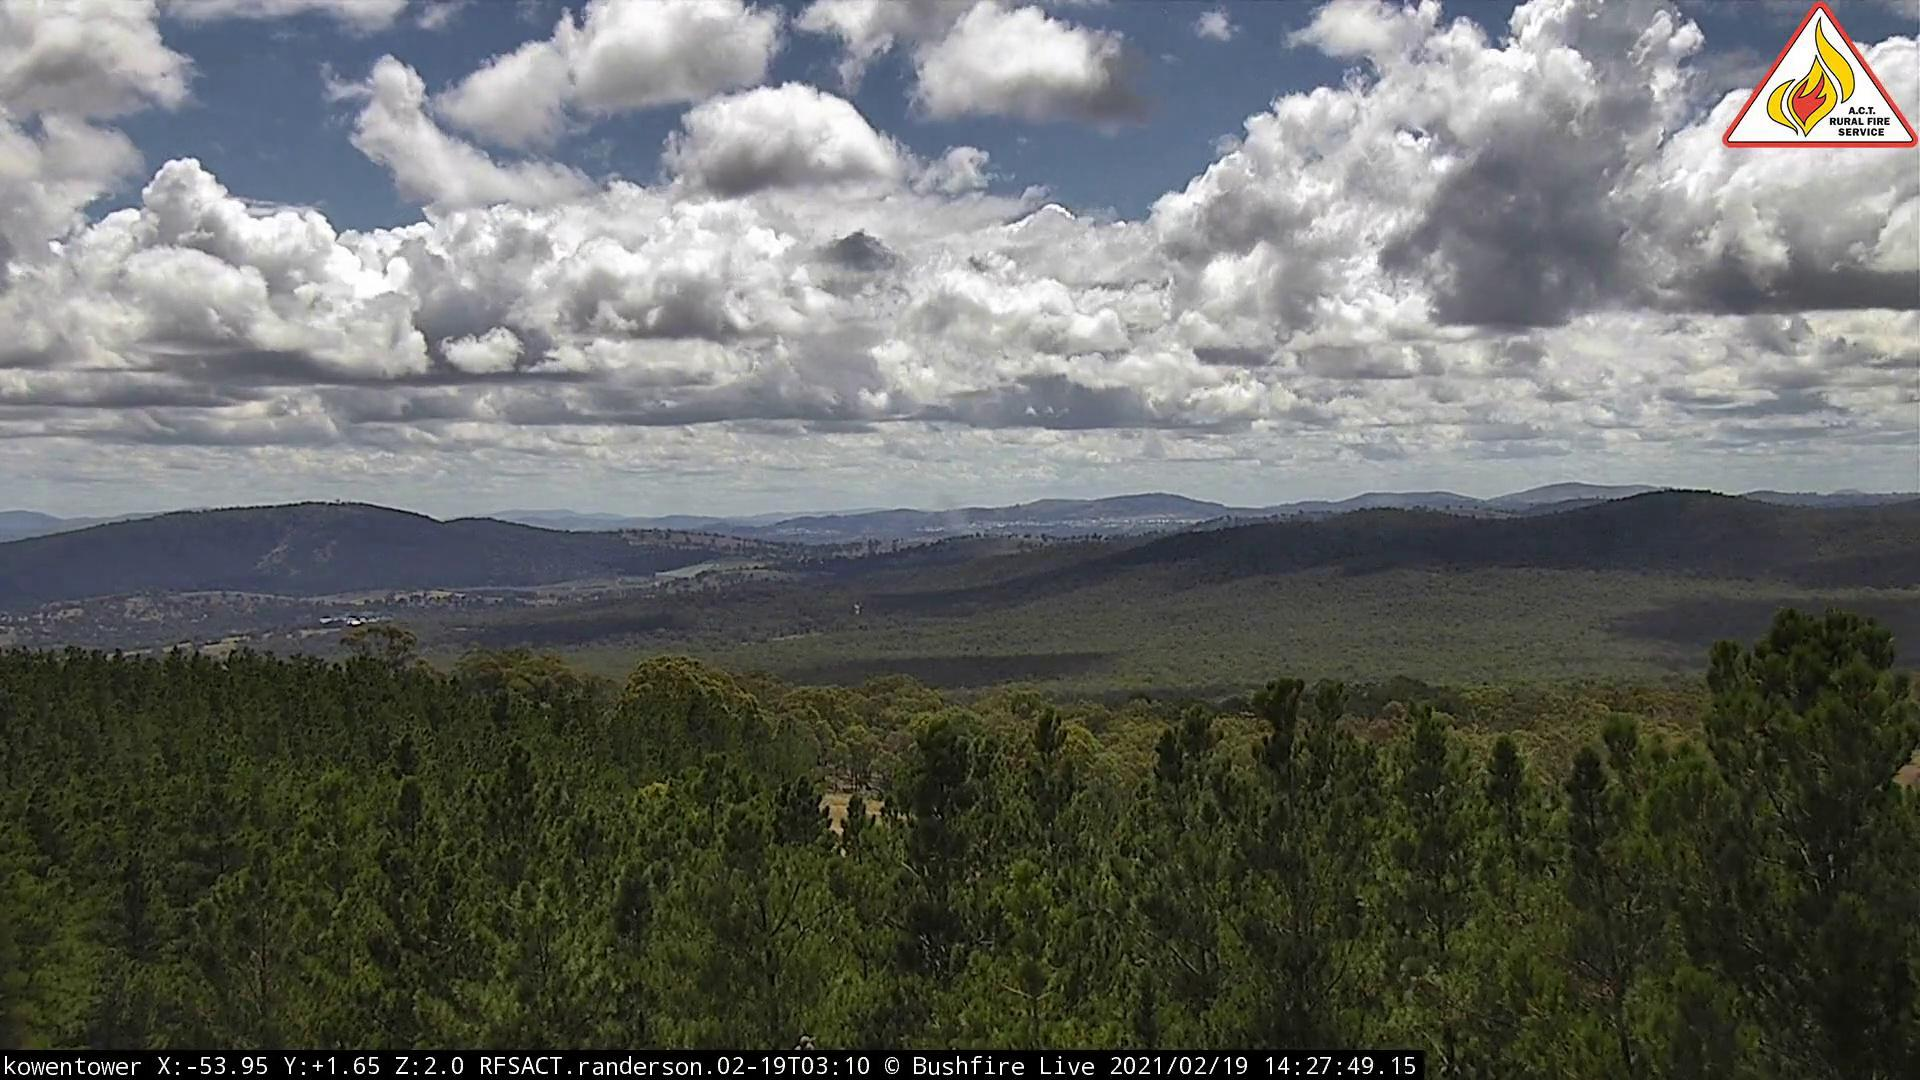Smoke: (909, 488, 986, 547)
